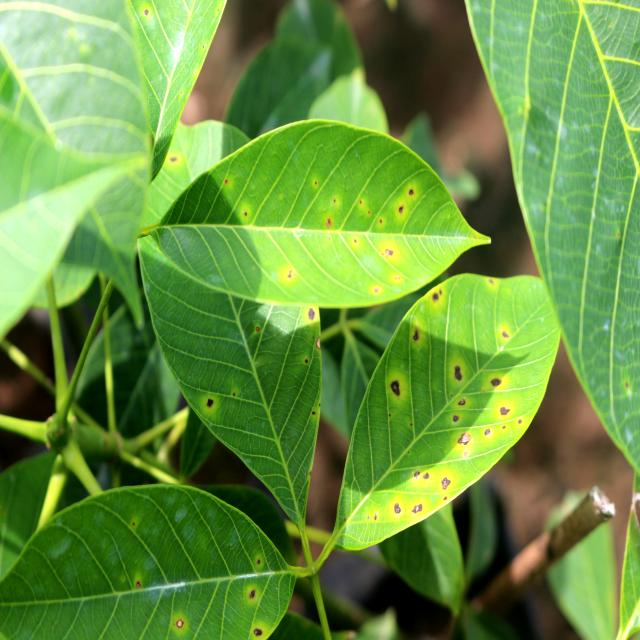Colletotrichum: (458, 432, 470, 445), (390, 381, 400, 396), (442, 477, 451, 490), (500, 407, 510, 415), (491, 379, 502, 386), (394, 503, 401, 514), (309, 309, 315, 320), (176, 620, 184, 628), (207, 398, 213, 408), (423, 473, 429, 479), (409, 190, 414, 196), (256, 327, 260, 332), (305, 359, 308, 363)
